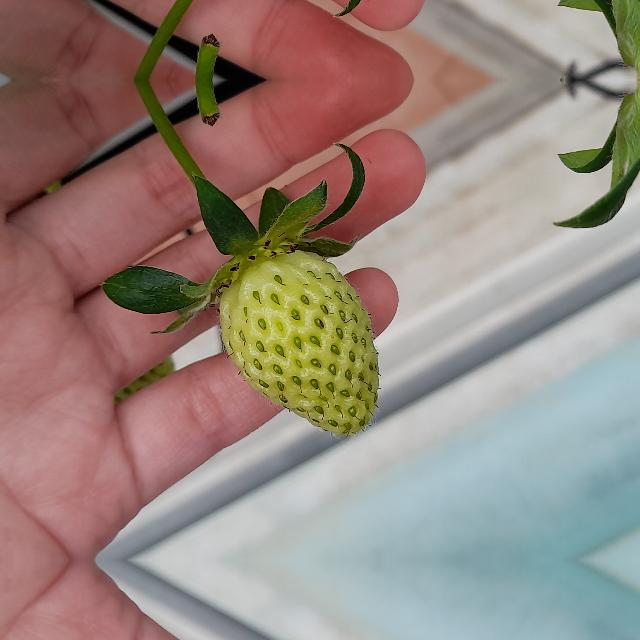Health_25: (218, 248, 380, 436)
